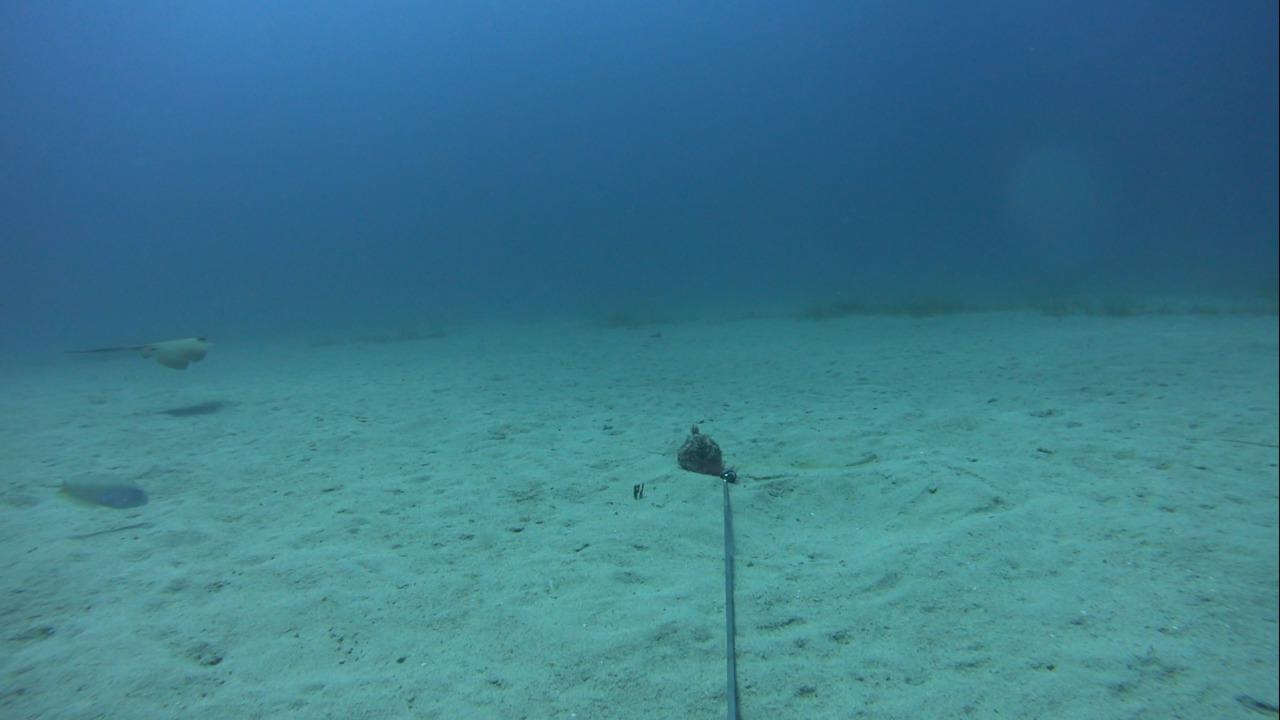myliobatis: (53, 328, 221, 377)
raor: (28, 472, 148, 517)
